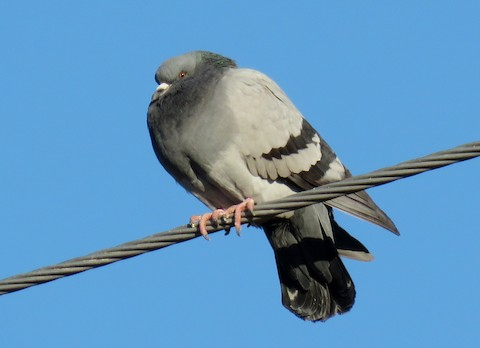pigeon: (142, 47, 406, 325)
